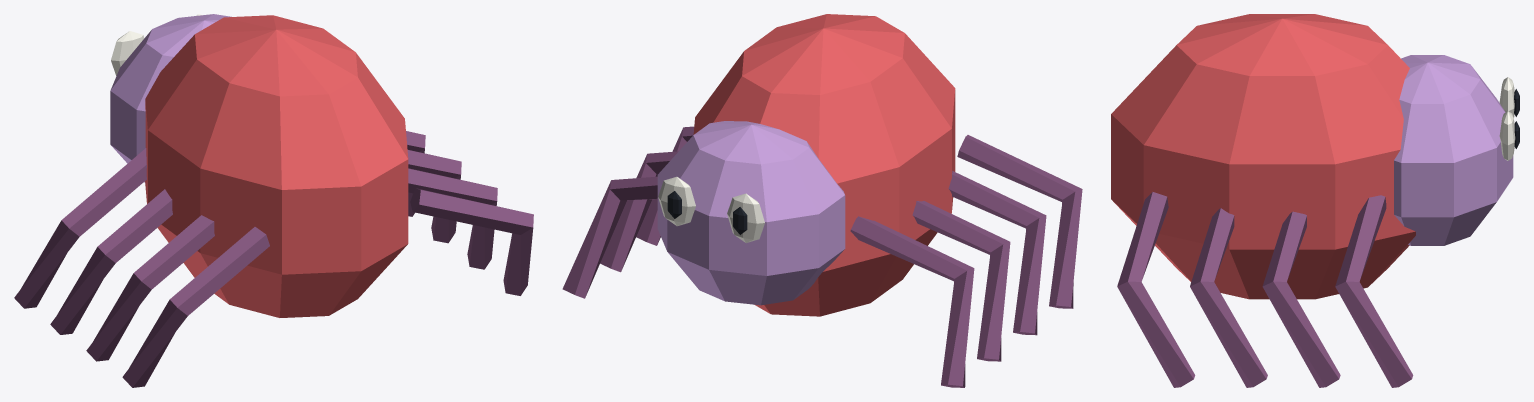
File: kibble.glb
3 views of the same model, side by side, from view 1: azimuth 30°, elevation 25°; view 2: azimuth 150°, elevation 25°; view 3: azimuth 270°, elevation 25° (orthographic).
Visible parts, largest first — view 1: kibble; view 2: kibble; view 3: kibble.
Part boxes in pixels (x1,y1,x2,y2): kibble: (14, 14, 533, 387); kibble: (562, 14, 1082, 387); kibble: (1111, 14, 1519, 387).
Bounding box in the file's own units: 0.7062 × 0.46 × 0.6173.
